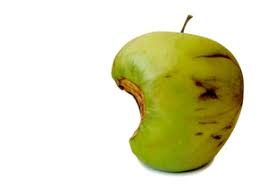damaged_apple: (110, 31, 249, 177)
